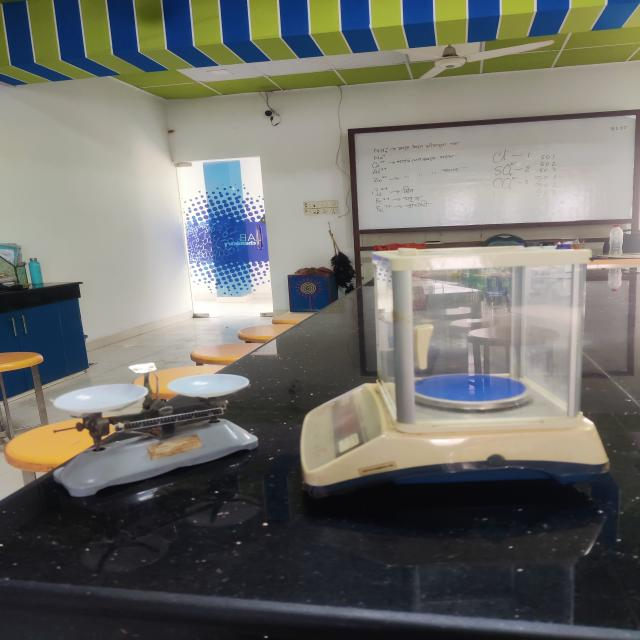Mechanical_Balance_Scale: (41, 346, 272, 514)
Precision_Weight_Scale: (286, 232, 640, 513)
